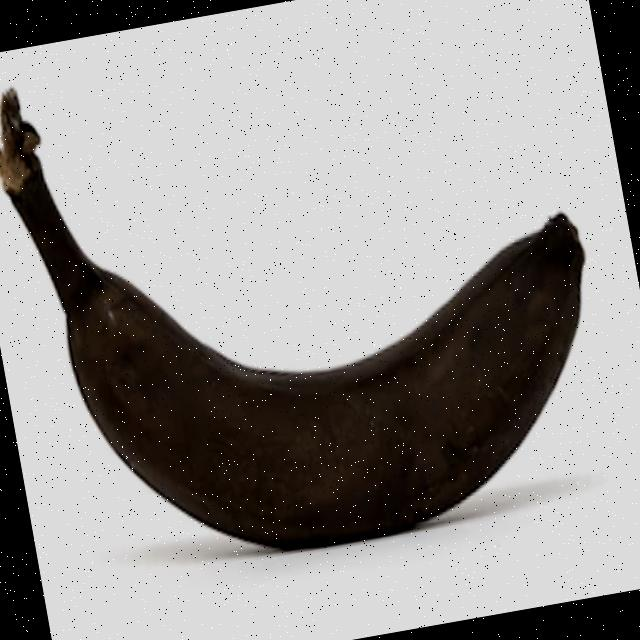Rotten: (0, 0, 635, 599)
